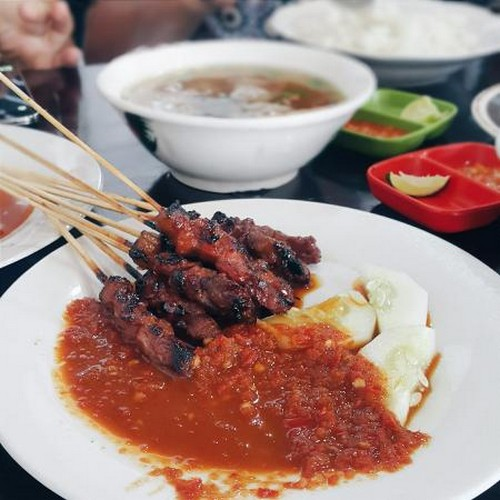sate plecing: (83, 195, 334, 366)
